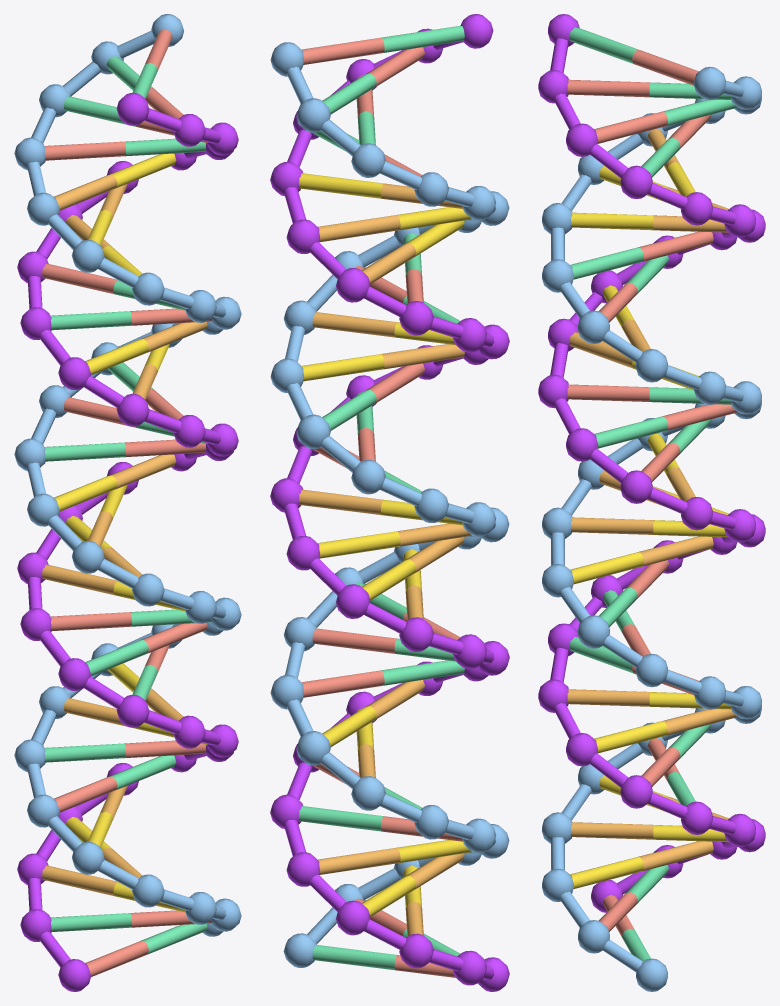
File: dna.glb
3 renders of one model, left to right at view 1: azimuth 30°, elevation 25°; view 2: azimuth 150°, elevation 25°; view 3: azimuth 270°, elevation 25°, orthographic. The views are drawn at different scales.
Visible parts, largest first — view 1: backbone_1, backbone_2, base_T, base_A, base_C, base_G; view 2: backbone_1, backbone_2, base_C, base_G, base_A, base_T; view 3: backbone_2, backbone_1, base_T, base_A, base_C, base_G.
Boxes of the visible parts, x1,y1,x2,y2 form: backbone_1: (14, 14, 241, 936); backbone_2: (17, 93, 238, 991); base_T: (42, 29, 211, 976); base_A: (44, 56, 211, 954); base_C: (42, 174, 207, 895); base_G: (54, 153, 206, 912); backbone_1: (270, 42, 509, 967); backbone_2: (270, 14, 509, 991); base_C: (299, 183, 471, 936); base_G: (299, 173, 471, 916); base_A: (299, 25, 464, 970); base_T: (302, 38, 462, 977); backbone_2: (538, 14, 765, 912); backbone_1: (542, 67, 761, 991); base_T: (567, 50, 736, 940); base_A: (569, 27, 736, 961); base_C: (567, 129, 736, 870); base_G: (570, 162, 731, 888).
Bounding box in the file's own units: 0.234 × 1.02 × 0.2299.
